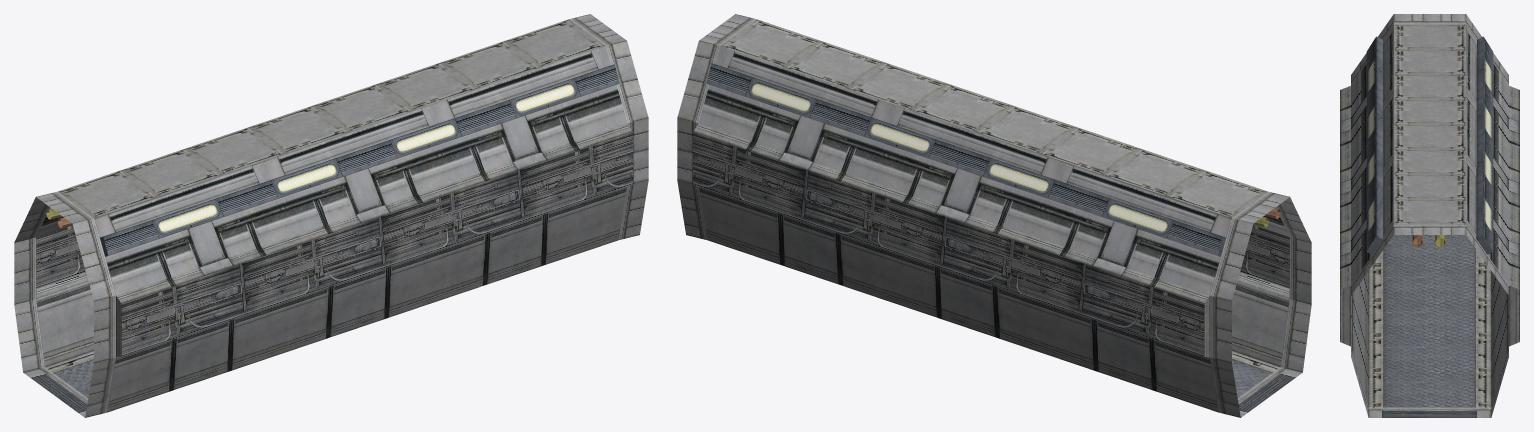
The model's file is ykl37r_r3_hallport_mesh.fbx.
3 renders of one model, left to right at view 1: azimuth 30°, elevation 25°; view 2: azimuth 150°, elevation 25°; view 3: azimuth 270°, elevation 25°, orthographic.
Parts seen in each view (by area): view 1: mesh_node; view 2: mesh_node; view 3: mesh_node.
Part boxes in pixels (bbox=[...]): mesh_node: bbox=[14, 14, 648, 417]; mesh_node: bbox=[677, 14, 1311, 417]; mesh_node: bbox=[1340, 14, 1519, 417].
Size of the model in its own units: 9.41 by 3.77 by 2.67.
